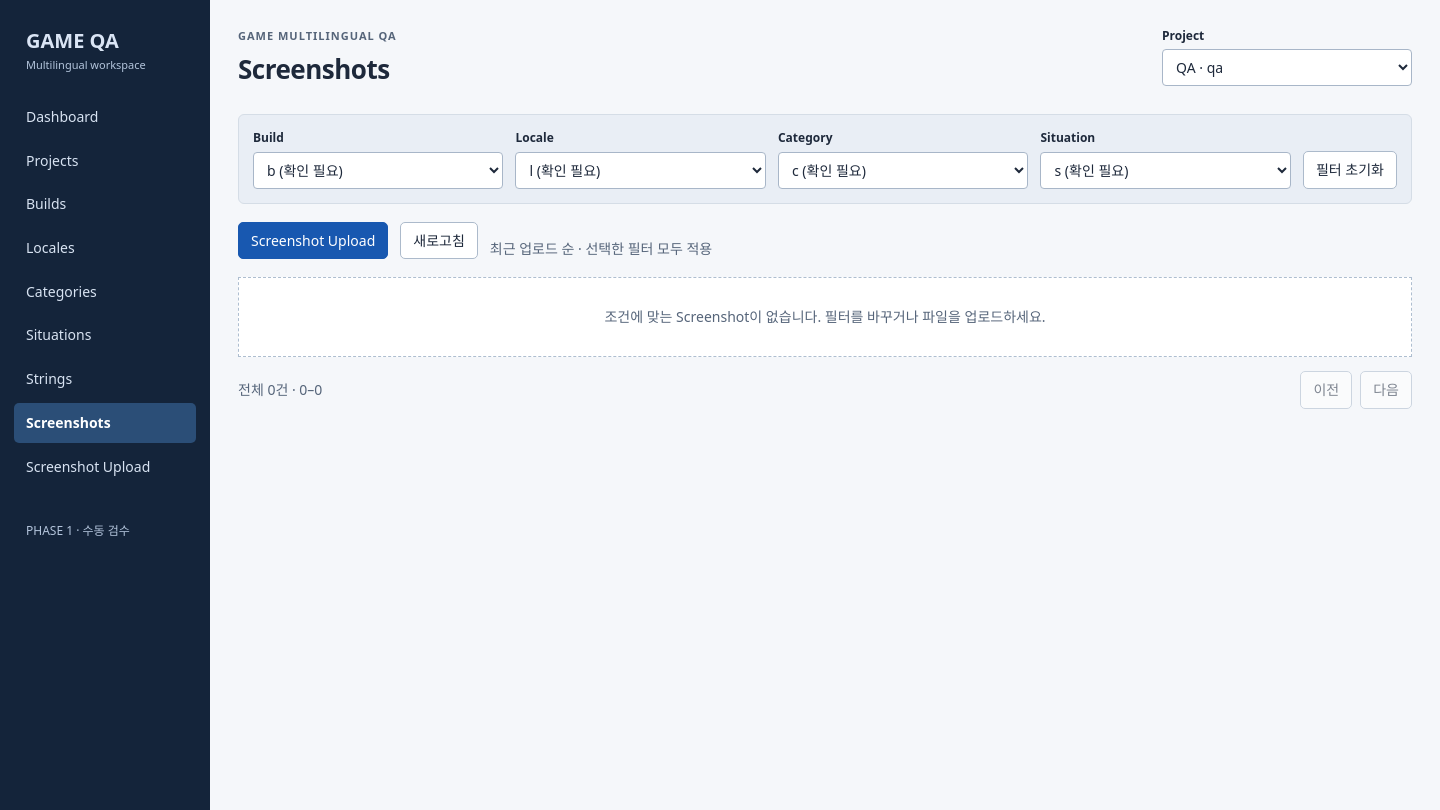
QA workflows › clears dependent filters when changing Project
Select "QA2 · qa2" in the dropdown labelled "Project" at (1287, 68), box [1162,49,1412,86]
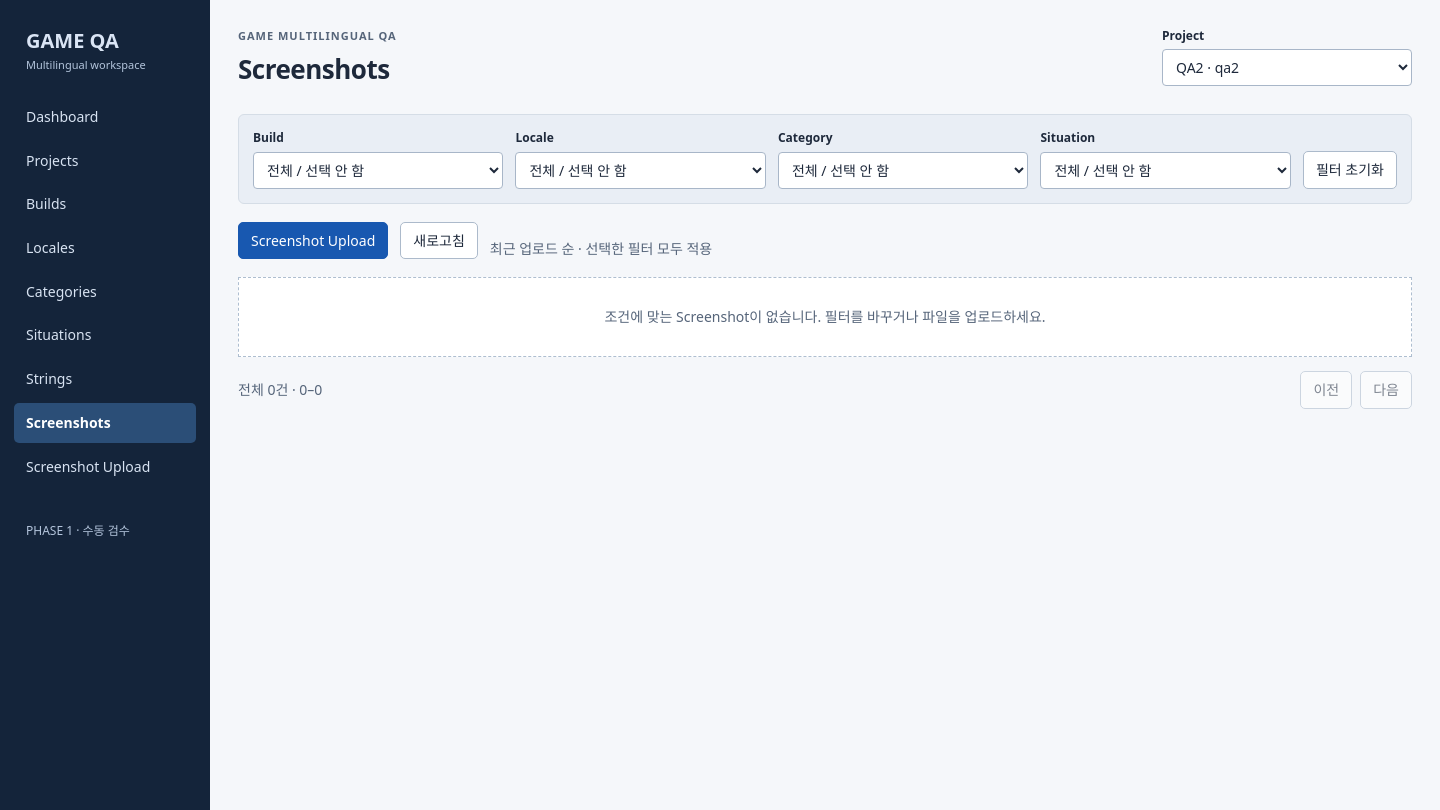
Expected: the dropdown labelled "Build" shows "전체 / 선택 안 함", [253,152,504,189]
Expected: the dropdown labelled "Locale" shows "전체 / 선택 안 함", [516,152,766,189]
Expected: the dropdown labelled "Category" shows "전체 / 선택 안 함", [778,152,1028,189]
